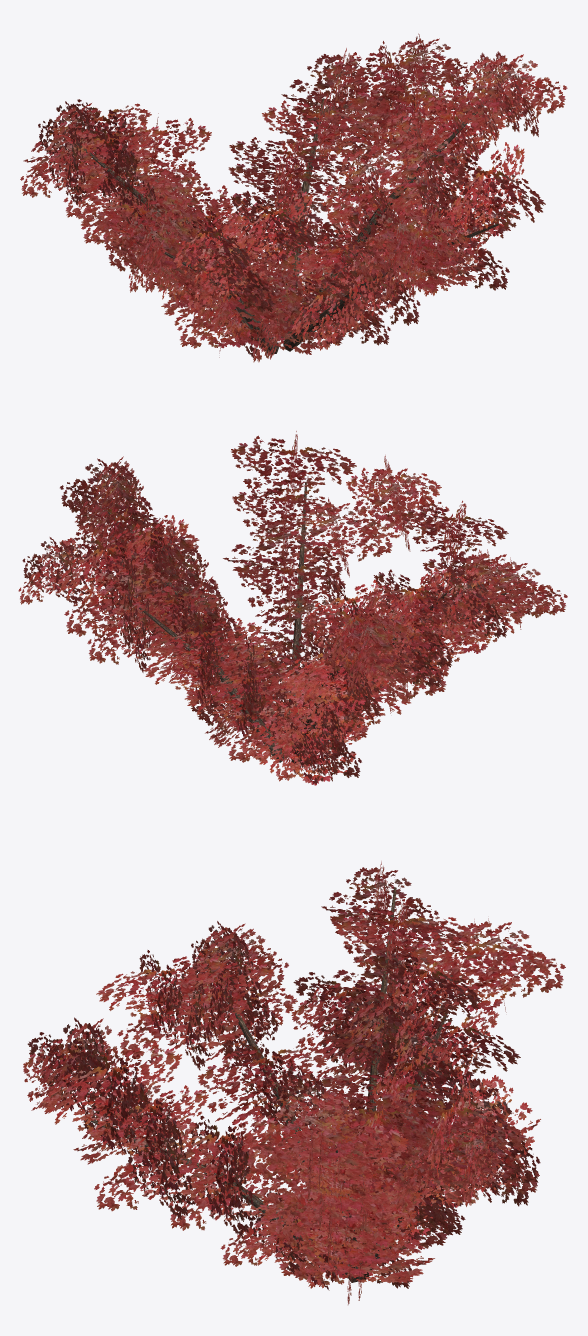
Rendered from bush_3d_02_red_lod1.glb.
3 views of the same model, one above another, from view 1: azimuth 30°, elevation 25°; view 2: azimuth 150°, elevation 25°; view 3: azimuth 270°, elevation 25° (orthographic). The views are drawn at different scales.
Parts seen in each view (by area): view 1: foliage_cards, wood_geometry; view 2: foliage_cards, wood_geometry; view 3: foliage_cards, wood_geometry.
Boxes of the visible parts, <box> form: foliage_cards: <box>20,33,567,362</box>; wood_geometry: <box>76,95,498,354</box>; foliage_cards: <box>18,431,567,785</box>; wood_geometry: <box>108,482,519,765</box>; foliage_cards: <box>23,861,565,1304</box>; wood_geometry: <box>87,887,487,1282</box>.
Bounding box in the file's own units: 3.06 × 1.47 × 2.46.
2 materials, 2 textured.
